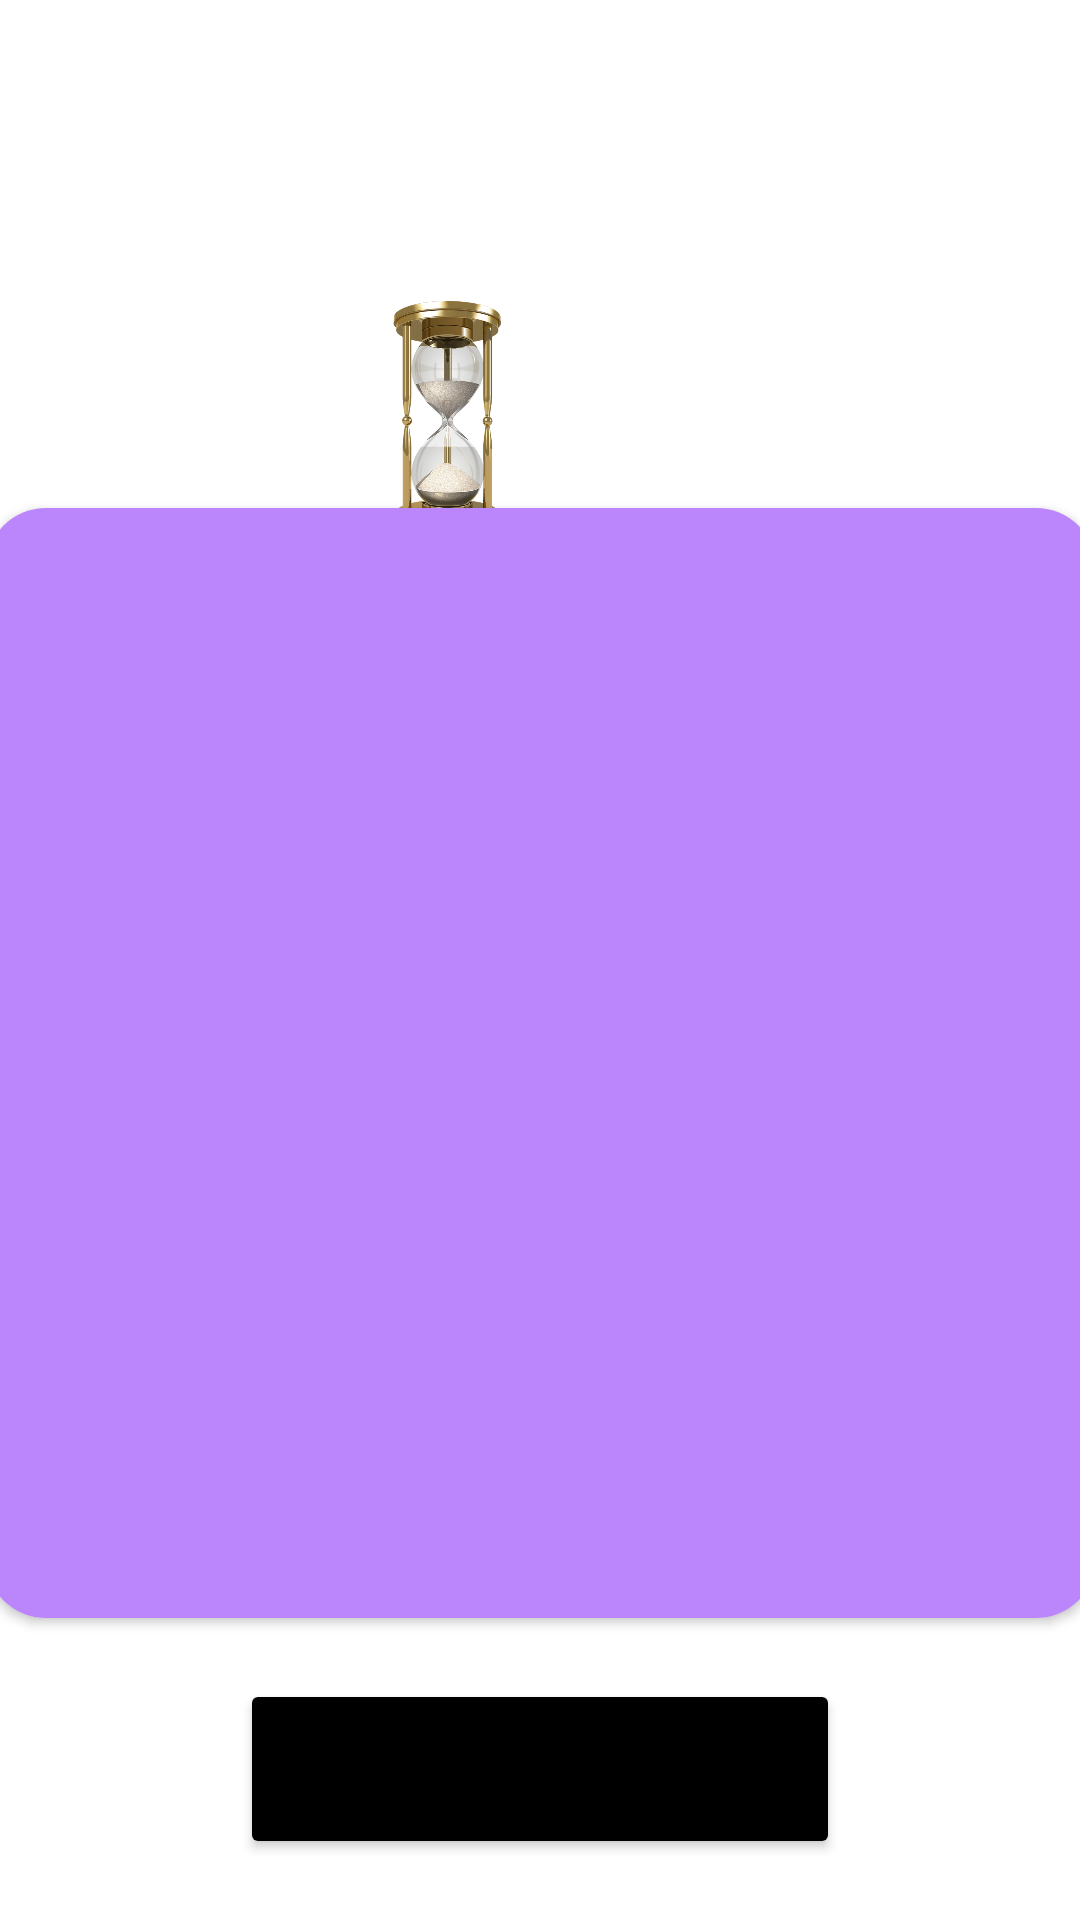

Locate icon controls on the screen. Image size 1080*1920, boxes as Rect(x1, y1, x2, y2).
time: Rect(327, 301, 567, 541)
